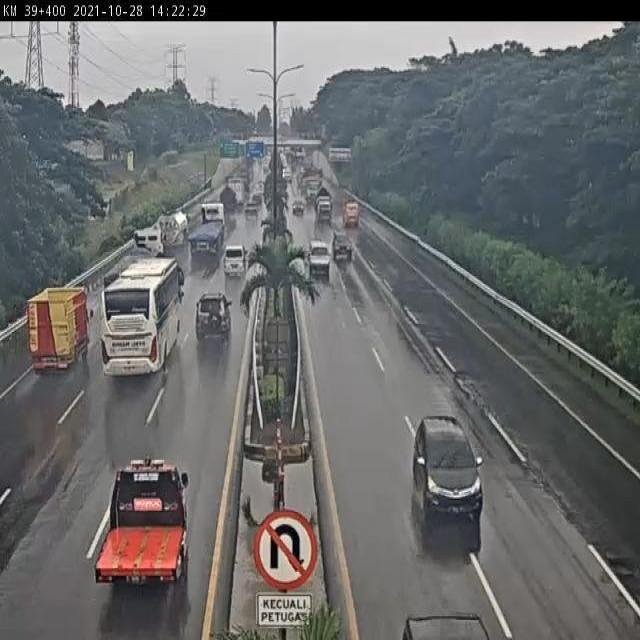bus-l-: (103, 257, 182, 376)
car: (412, 412, 487, 523), (195, 292, 233, 337), (306, 239, 331, 276), (224, 242, 248, 278), (332, 231, 354, 260)
small truck: (93, 458, 190, 590), (26, 282, 92, 374)
truck-m-: (150, 208, 186, 253)
truck-xl-: (102, 230, 165, 290), (189, 203, 227, 257)
